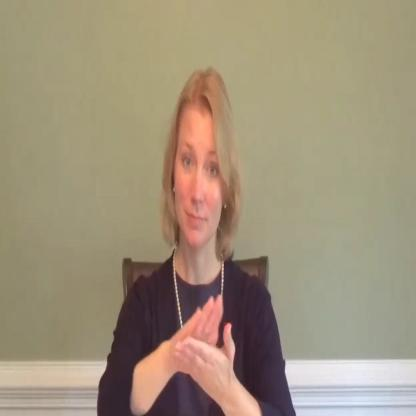NiceToMeetYou: (112, 65, 292, 416)
